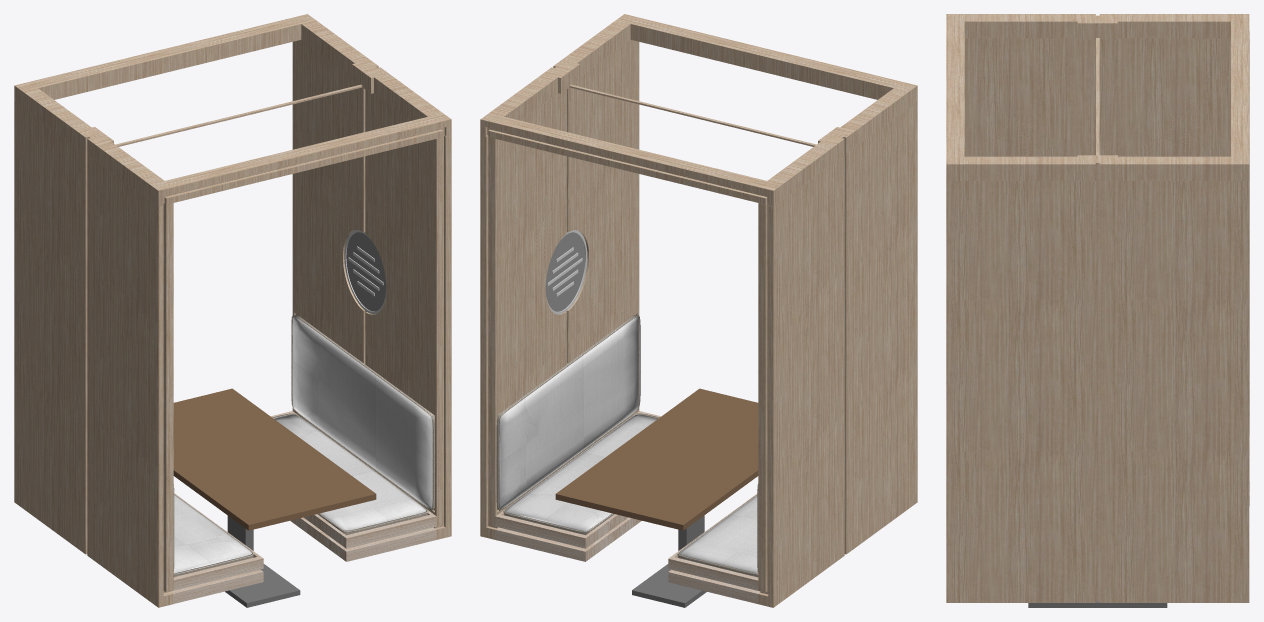
File: two_seat_cave_packed.glb
3 views of the same model, side by side, from view 1: azimuth 30°, elevation 25°; view 2: azimuth 150°, elevation 25°; view 3: azimuth 270°, elevation 25° (orthographic). The views are drawn at different scales.
Bounding box in the file's own units: 1.95 × 3.03 × 1.66.
8 materials, 4 textured.
